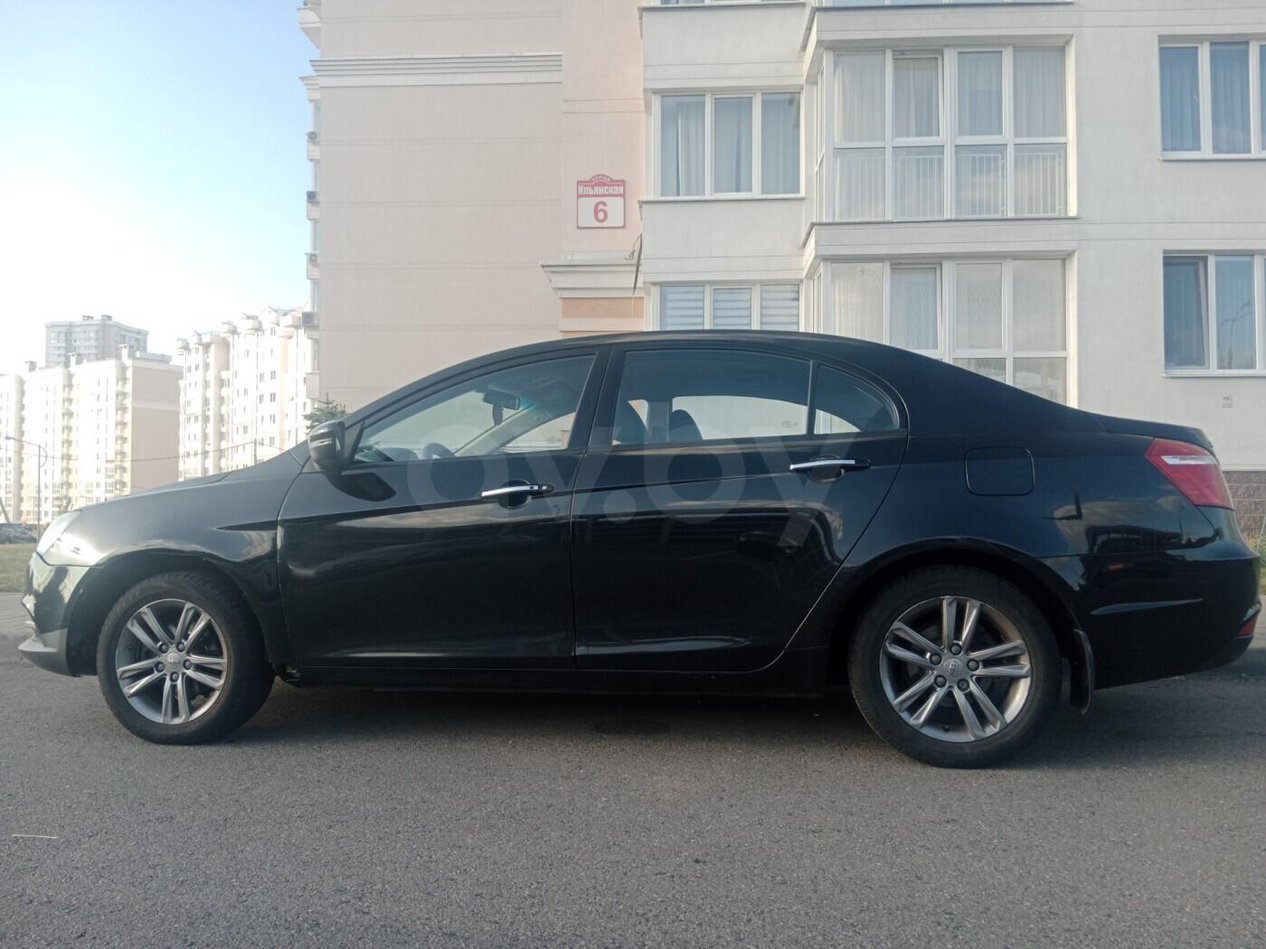Emgrand_2019-2021: (24, 330, 1261, 767)
